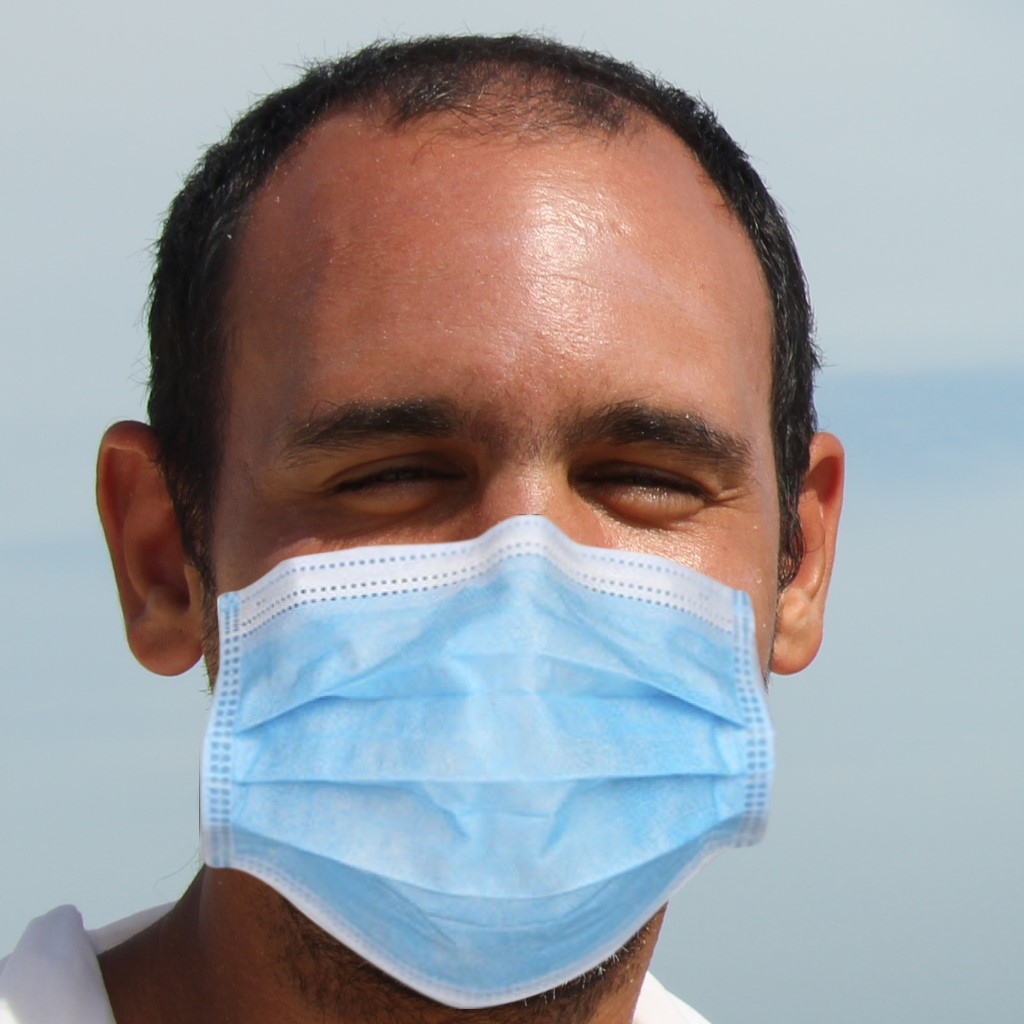con_mascara: (185, 82, 807, 982)
